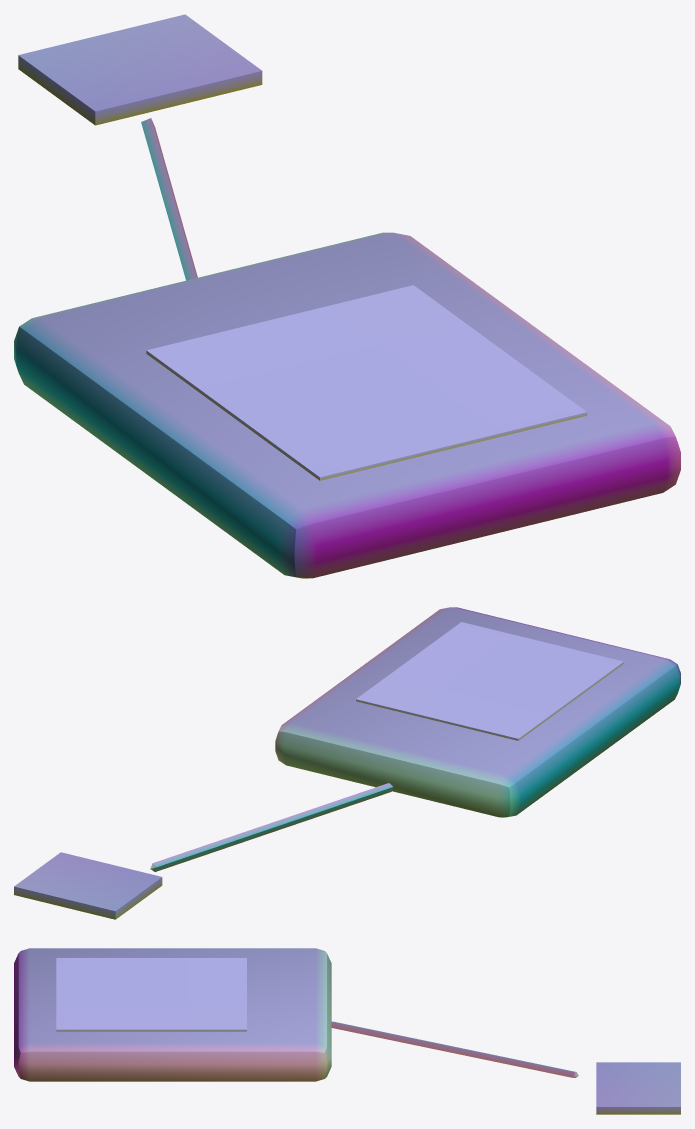
Rendered from env_deco_teabag.glb.
3 renders of one model, top to bottom at view 1: azimuth 30°, elevation 25°; view 2: azimuth 150°, elevation 25°; view 3: azimuth 270°, elevation 25°, orthographic. The views are drawn at different scales.
Parts seen in each view (by area): view 1: env_deco_teabag_mesh; view 2: env_deco_teabag_mesh; view 3: env_deco_teabag_mesh.
Boxes of the visible parts, bbox=[...] form: env_deco_teabag_mesh: bbox=[14, 14, 680, 578]; env_deco_teabag_mesh: bbox=[14, 607, 680, 919]; env_deco_teabag_mesh: bbox=[14, 948, 680, 1114].
Bounding box in the file's own units: 0.3 × 0.042 × 0.63.
